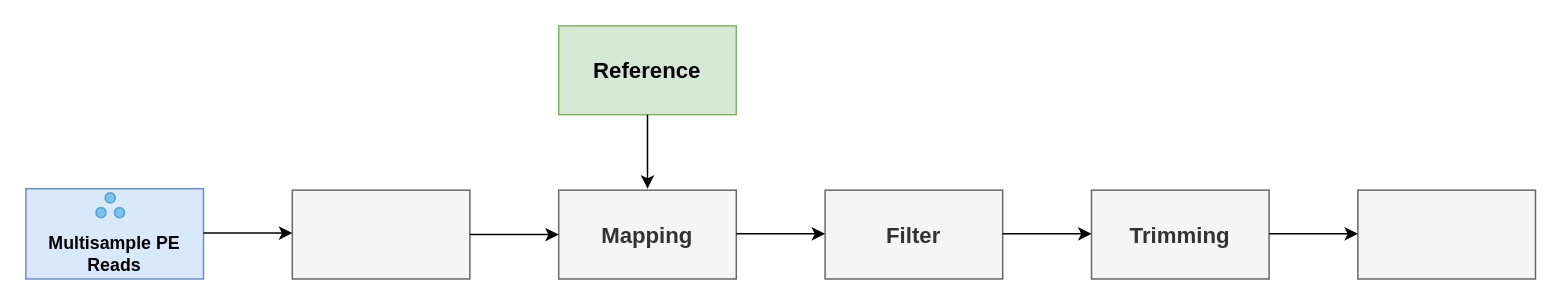
The diagram is 1561 pixels wide and 305 high, and some of its shapes have lost their labels. Here are the shapes that lost their labels. From the top down, the box of each, then its label:
(291, 189, 470, 279): Quality Control
(1356, 189, 1536, 279): Consensus Construction
